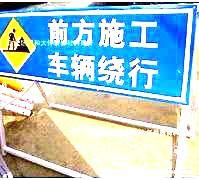sign: (1, 10, 194, 105)
